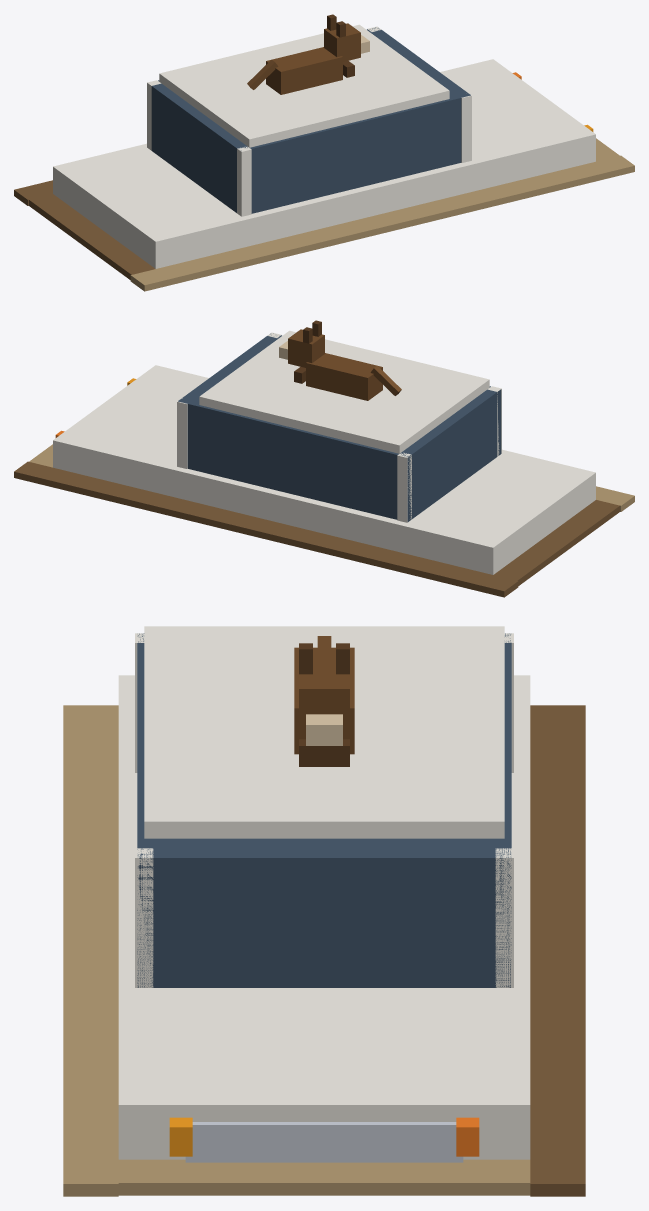
File: auto_inundado_3.obj
3 views of the same model, one above another, from view 1: azimuth 30°, elevation 25°; view 2: azimuth 150°, elevation 25°; view 3: azimuth 270°, elevation 25° (orthographic). The views are drawn at different scales.
Visible parts, largest first — view 1: auto_inundado_3; view 2: auto_inundado_3; view 3: auto_inundado_3.
Boxes of the visible parts, box(x1,y1,x2,y2) form: auto_inundado_3: box(14, 14, 634, 291); auto_inundado_3: box(14, 320, 634, 597); auto_inundado_3: box(63, 626, 585, 1196).
Size of the model in its own units: 4.9 by 1.54 by 2.26.
